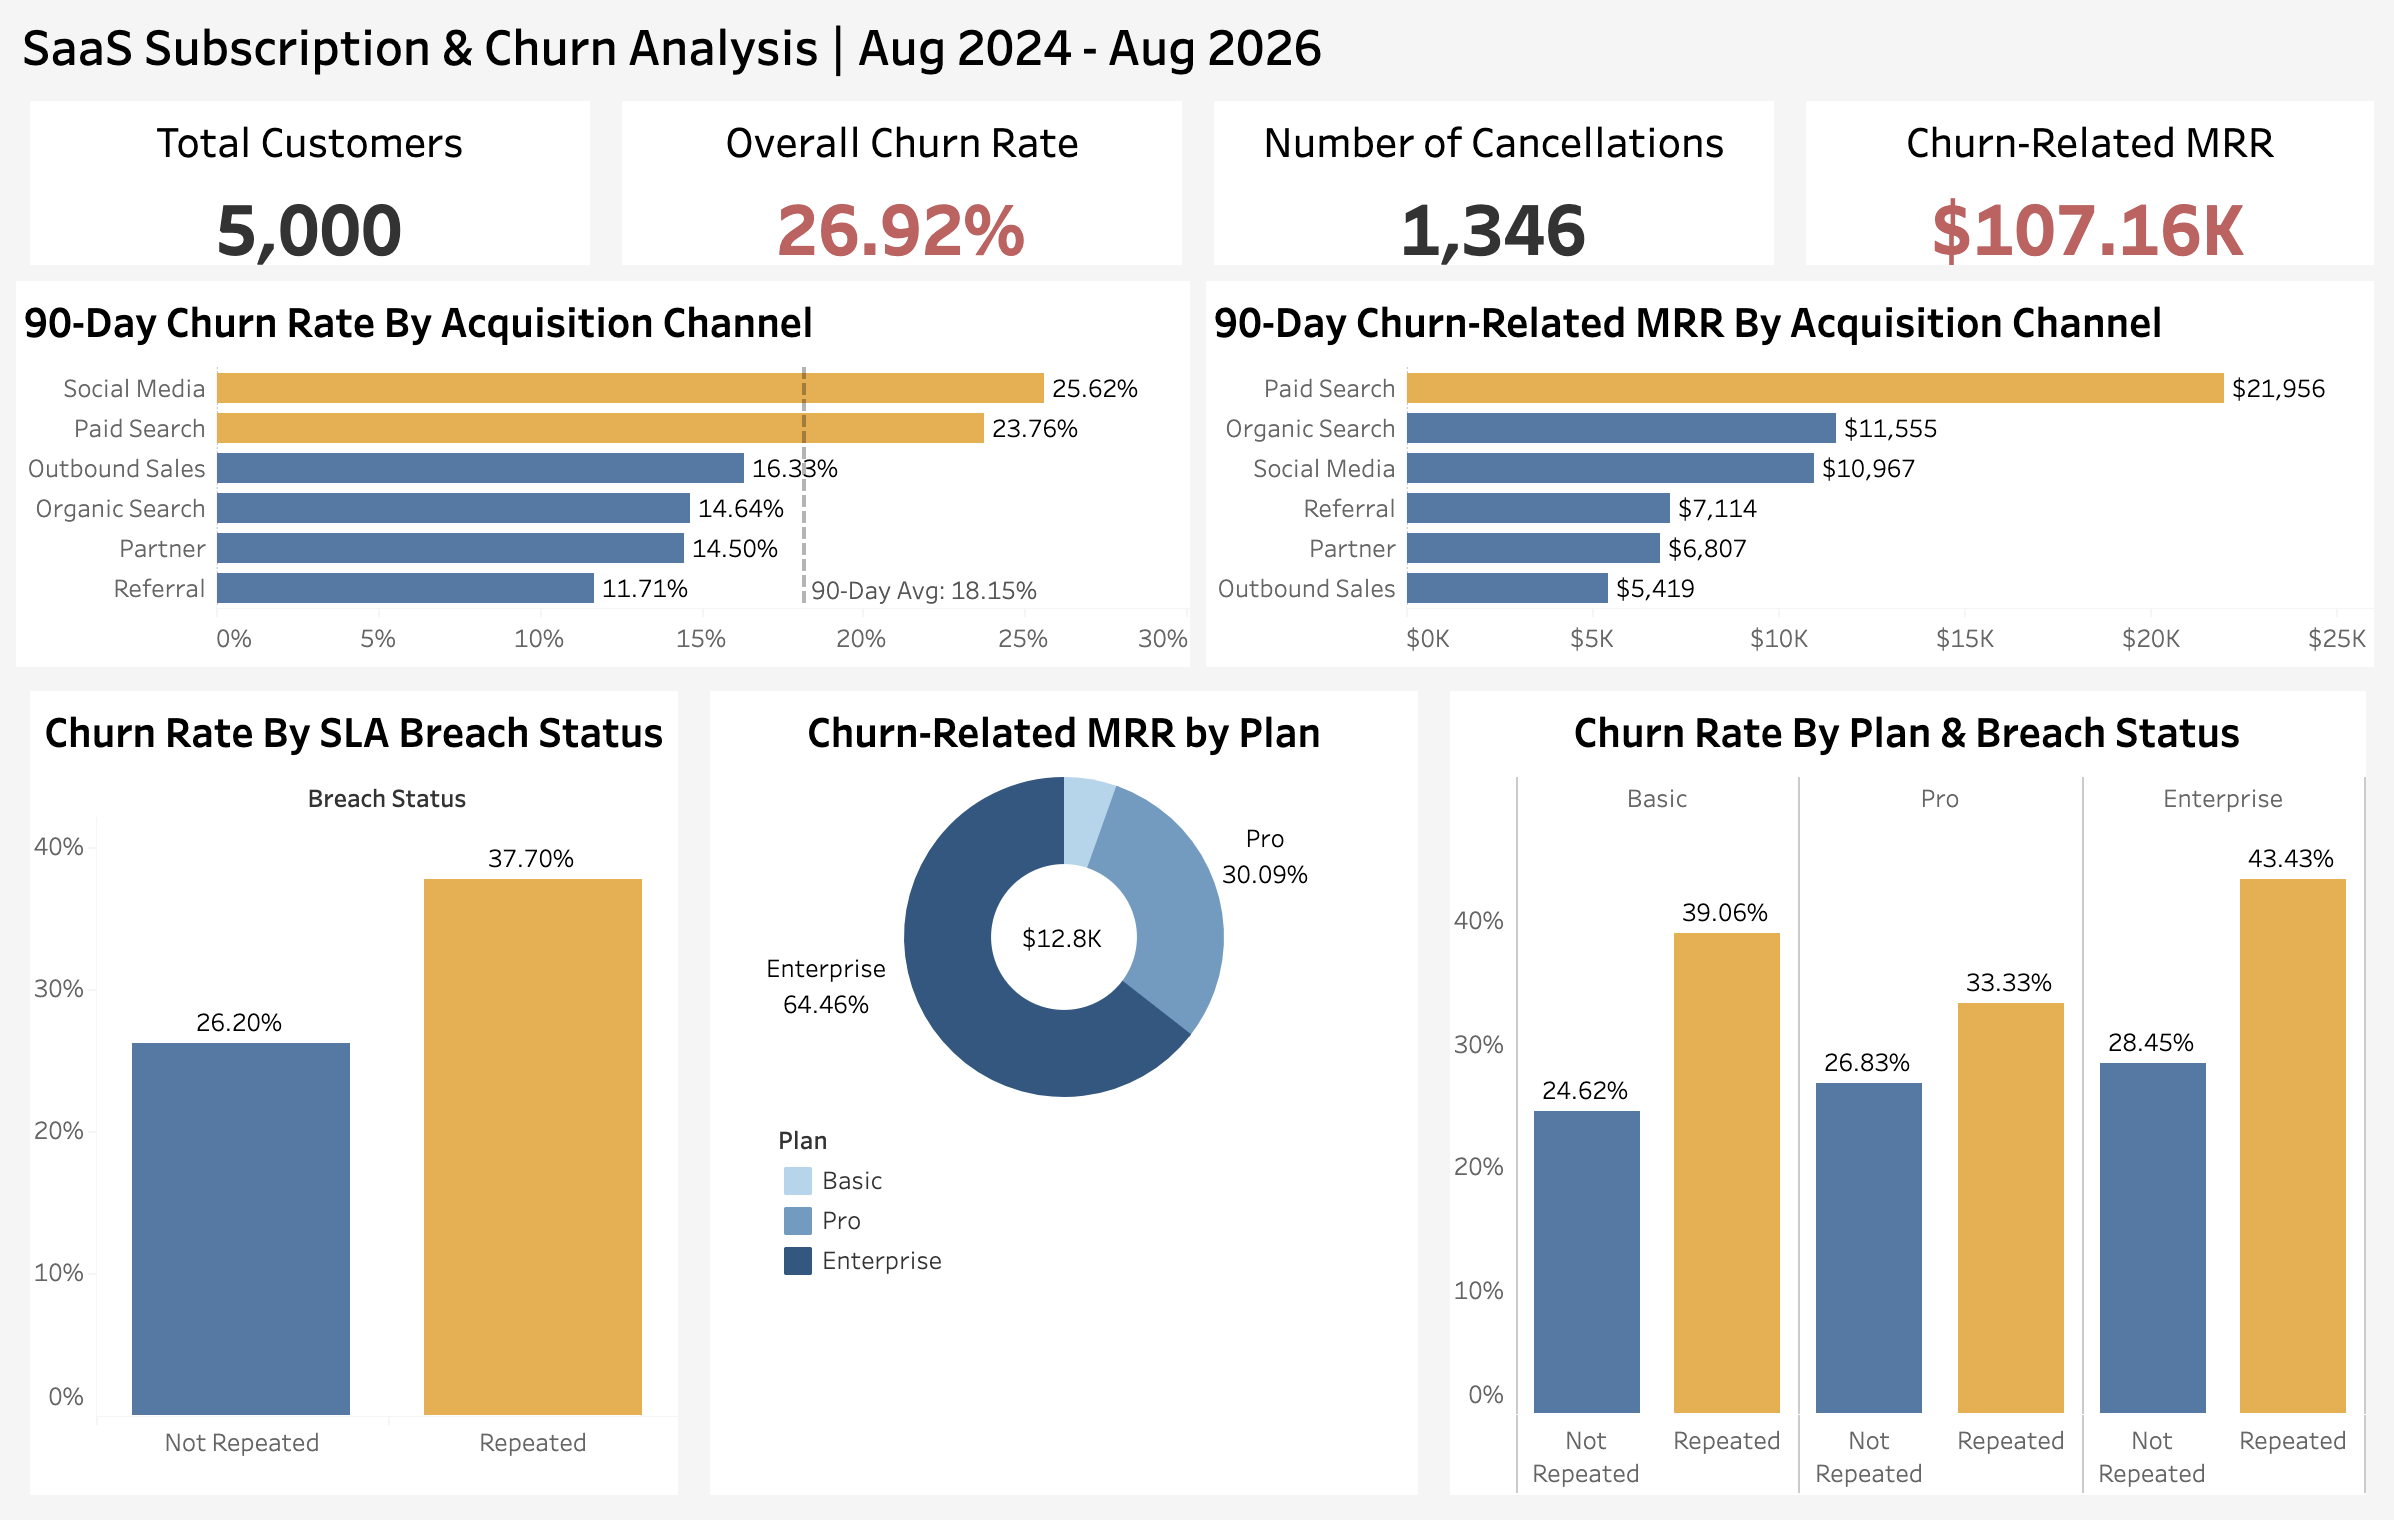

This screenshot's page, from the dashboard's own definition file:
{"tool":"tableau","page":{"name":"Churn Analysis Dashboard","canvas":[1200,800],"ordinal":0},"visuals":[{"type":"text","box":[8,8,1184,39]},{"type":"worksheet","title":"KPI - Total Customers","mark":"Automatic","box":[8,47,296,94]},{"type":"worksheet","title":"KPI - Overall Churn %","mark":"Automatic","box":[304,47,296,94]},{"type":"worksheet","title":"KPI - Number of Cancellations","mark":"Automatic","box":[600,47,296,94]},{"type":"worksheet","title":"KPI - Churn Related MRR","mark":"Automatic","box":[896,47,296,94]},{"type":"worksheet","title":"Acquisition - Early Churn Rate","mark":"Bar","rows":["acquisition_channel"],"cols":["early_churn_rate"],"box":[8,141,592,201]},{"type":"worksheet","title":"Acquisition - Churn MRR","mark":"Bar","rows":["acquisition_channel"],"cols":["lost_mrr"],"box":[600,141,592,201]},{"type":"worksheet","title":"Support - Overall Churn","mark":"Bar","rows":["churn_rate_pct"],"cols":["breach_group"],"box":[8,342,340,418]},{"type":"worksheet","title":"Support - Churn by Plan MRR","mark":"Pie","cols":["Calculation_4264797483347971","Calculation_4264797483388933"],"box":[348,342,370,418]},{"type":"worksheet","title":"Support - Churn By Plan","mark":"Bar","rows":["churn_rate"],"cols":["plan","breach_group"],"box":[718,342,474,418]},{"type":"legend","title":"Support - Churn by Plan MRR","param":"[federated.1pqbhq90mt5jsv13b7th80wa2s2s].[none:plan:nk]","box":[390,566,140,78]}]}

Visuals, with their boxes on the page's 1200x800 design canvas (x1, y1, x2, y2). These are canvas units, not pixel positions in the 2394x1520 screenshot, which may show the page scaled, cropped or inside an application window:
text: 8, 8, 1192, 47
"KPI - Total Customers" worksheet: 8, 47, 304, 141
"KPI - Overall Churn %" worksheet: 304, 47, 600, 141
"KPI - Number of Cancellations" worksheet: 600, 47, 896, 141
"KPI - Churn Related MRR" worksheet: 896, 47, 1192, 141
"Acquisition - Early Churn Rate" worksheet (Bar marks): 8, 141, 600, 342
"Acquisition - Churn MRR" worksheet (Bar marks): 600, 141, 1192, 342
"Support - Overall Churn" worksheet (Bar marks): 8, 342, 348, 760
"Support - Churn by Plan MRR" worksheet (Pie marks): 348, 342, 718, 760
"Support - Churn By Plan" worksheet (Bar marks): 718, 342, 1192, 760
"Support - Churn by Plan MRR" legend: 390, 566, 530, 644
